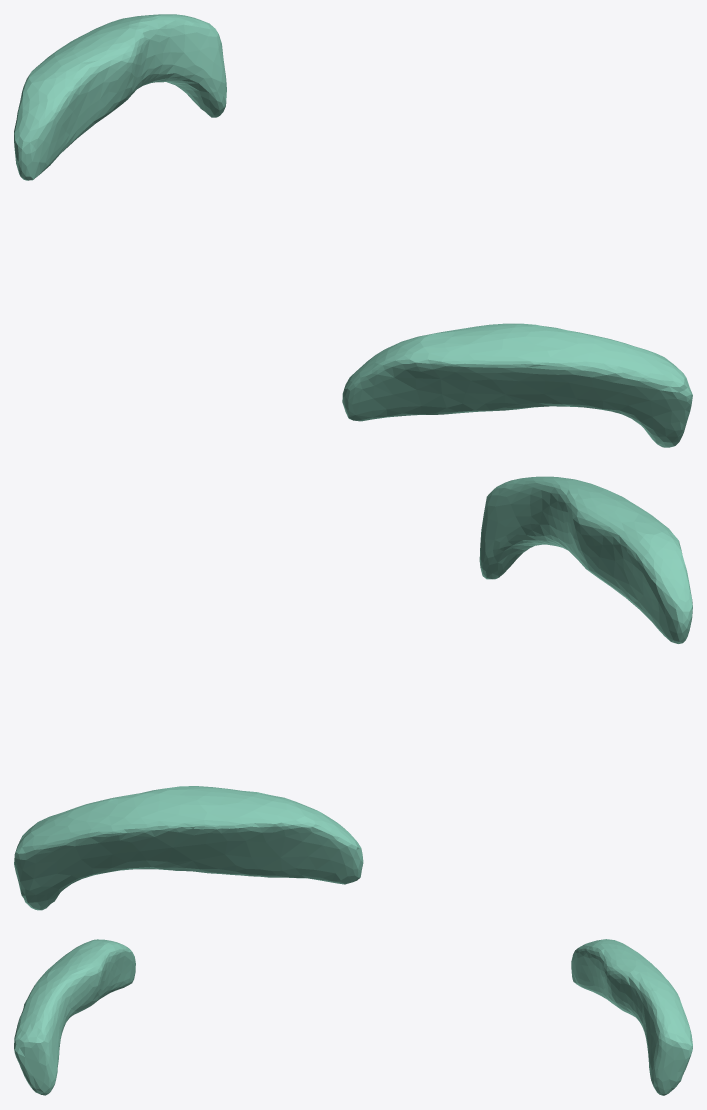
The picture shows the model from 3 angles, top to bottom: view 1: azimuth 30°, elevation 25°; view 2: azimuth 150°, elevation 25°; view 3: azimuth 270°, elevation 25°; orthographic projection. The views are drawn at different scales.
Parts seen in each view (by area): view 1: 788.obj; view 2: 788.obj; view 3: 788.obj.
Part boxes in pixels (x1=…): 788.obj: x1=14, y1=14, x2=692, y2=447; 788.obj: x1=14, y1=476, x2=692, y2=910; 788.obj: x1=14, y1=939, x2=692, y2=1095.
Bounding box in the file's own units: 2440 × 1132 × 7756.
